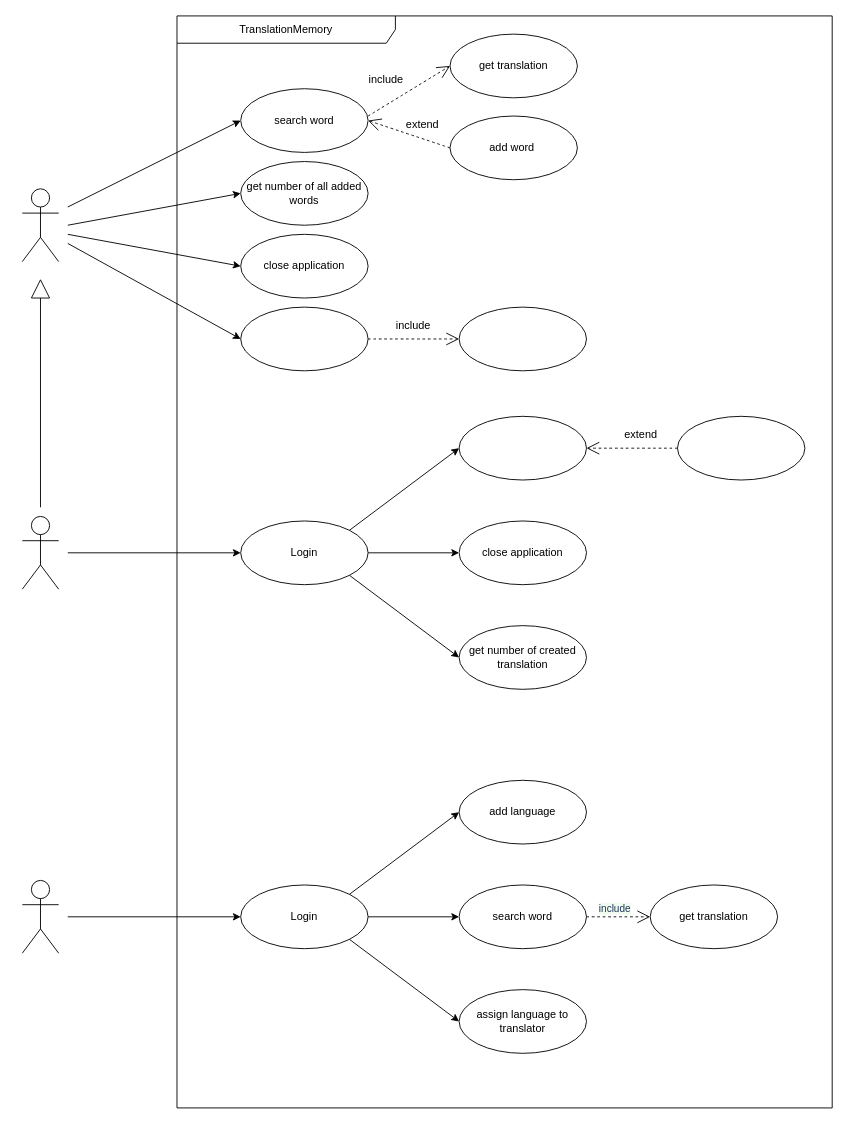
Some shapes in this 848 by 1124 pixel diagram are drawn without their labels. The box of each missing label's shape, as (x1, y1, x2, y2) in pixels:
add translation: (677, 415, 805, 480)
Admin: (21, 880, 59, 953)
get number of all complete translated words: (458, 306, 586, 371)
get number of all registered words in the database: (240, 306, 368, 371)
list words without translation: (458, 415, 586, 480)
Translator: (21, 516, 59, 589)
User: (21, 188, 59, 262)
